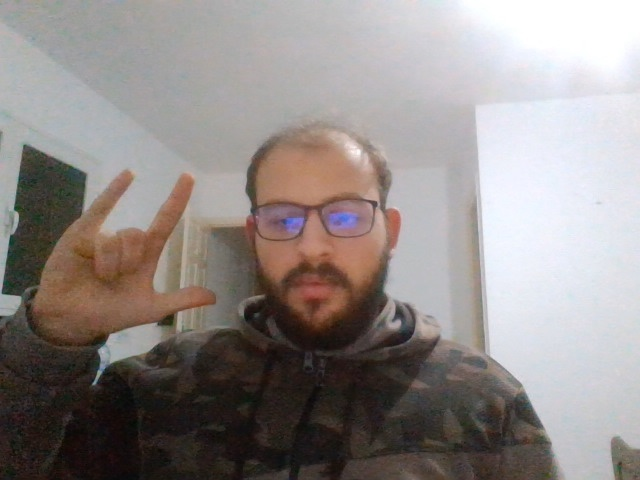I Love You: (57, 170, 214, 334)
